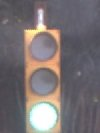Green: (19, 19, 74, 132)
